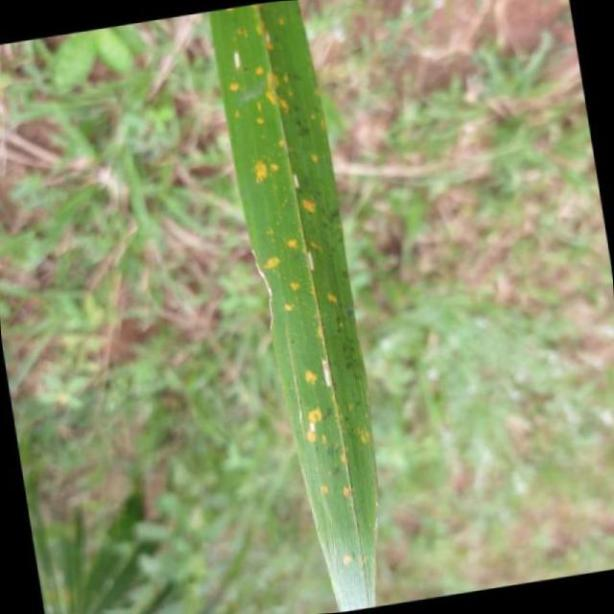Kalium: (204, 0, 384, 610)
